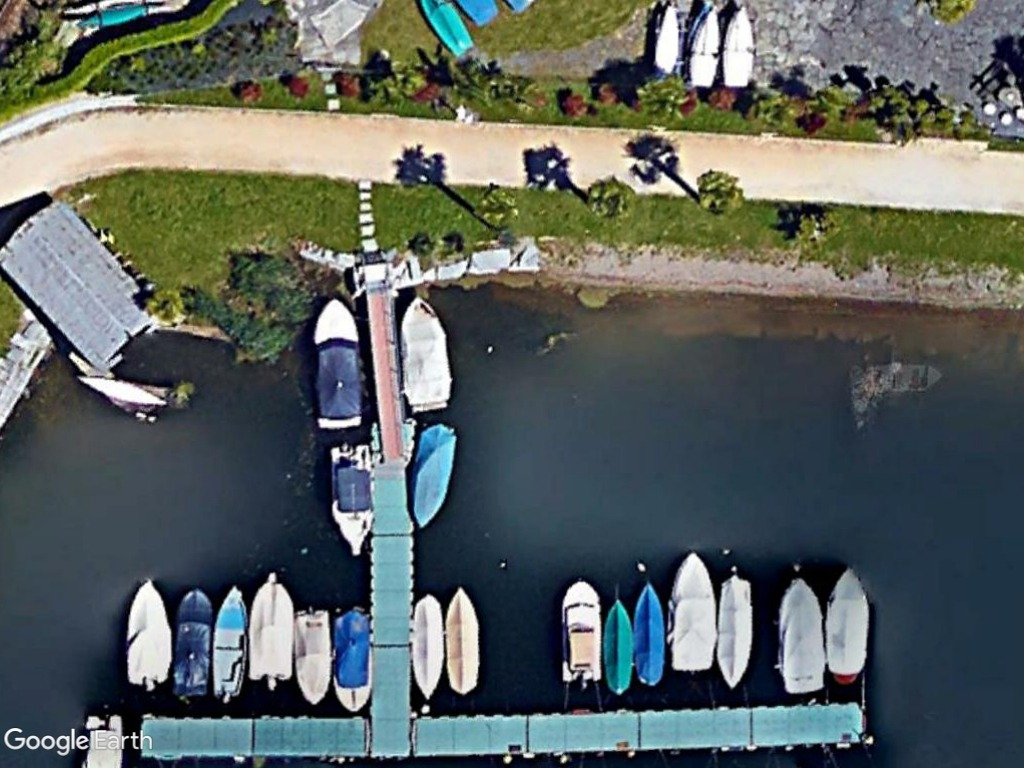boat: (306, 293, 369, 433), (322, 440, 381, 564), (772, 573, 829, 698), (666, 545, 719, 677), (404, 415, 465, 528), (394, 293, 449, 415), (820, 562, 872, 688), (245, 570, 300, 688), (553, 573, 609, 687), (121, 575, 175, 689), (169, 583, 215, 705), (205, 578, 249, 703), (329, 602, 374, 720), (714, 570, 755, 693), (444, 582, 487, 697), (293, 604, 337, 710), (407, 589, 448, 702), (715, 4, 761, 91), (634, 576, 668, 687), (603, 591, 637, 700), (689, 1, 727, 88)
